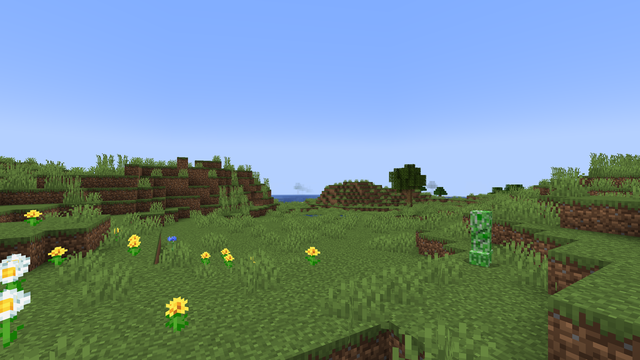creepers: (466, 207, 496, 266)
